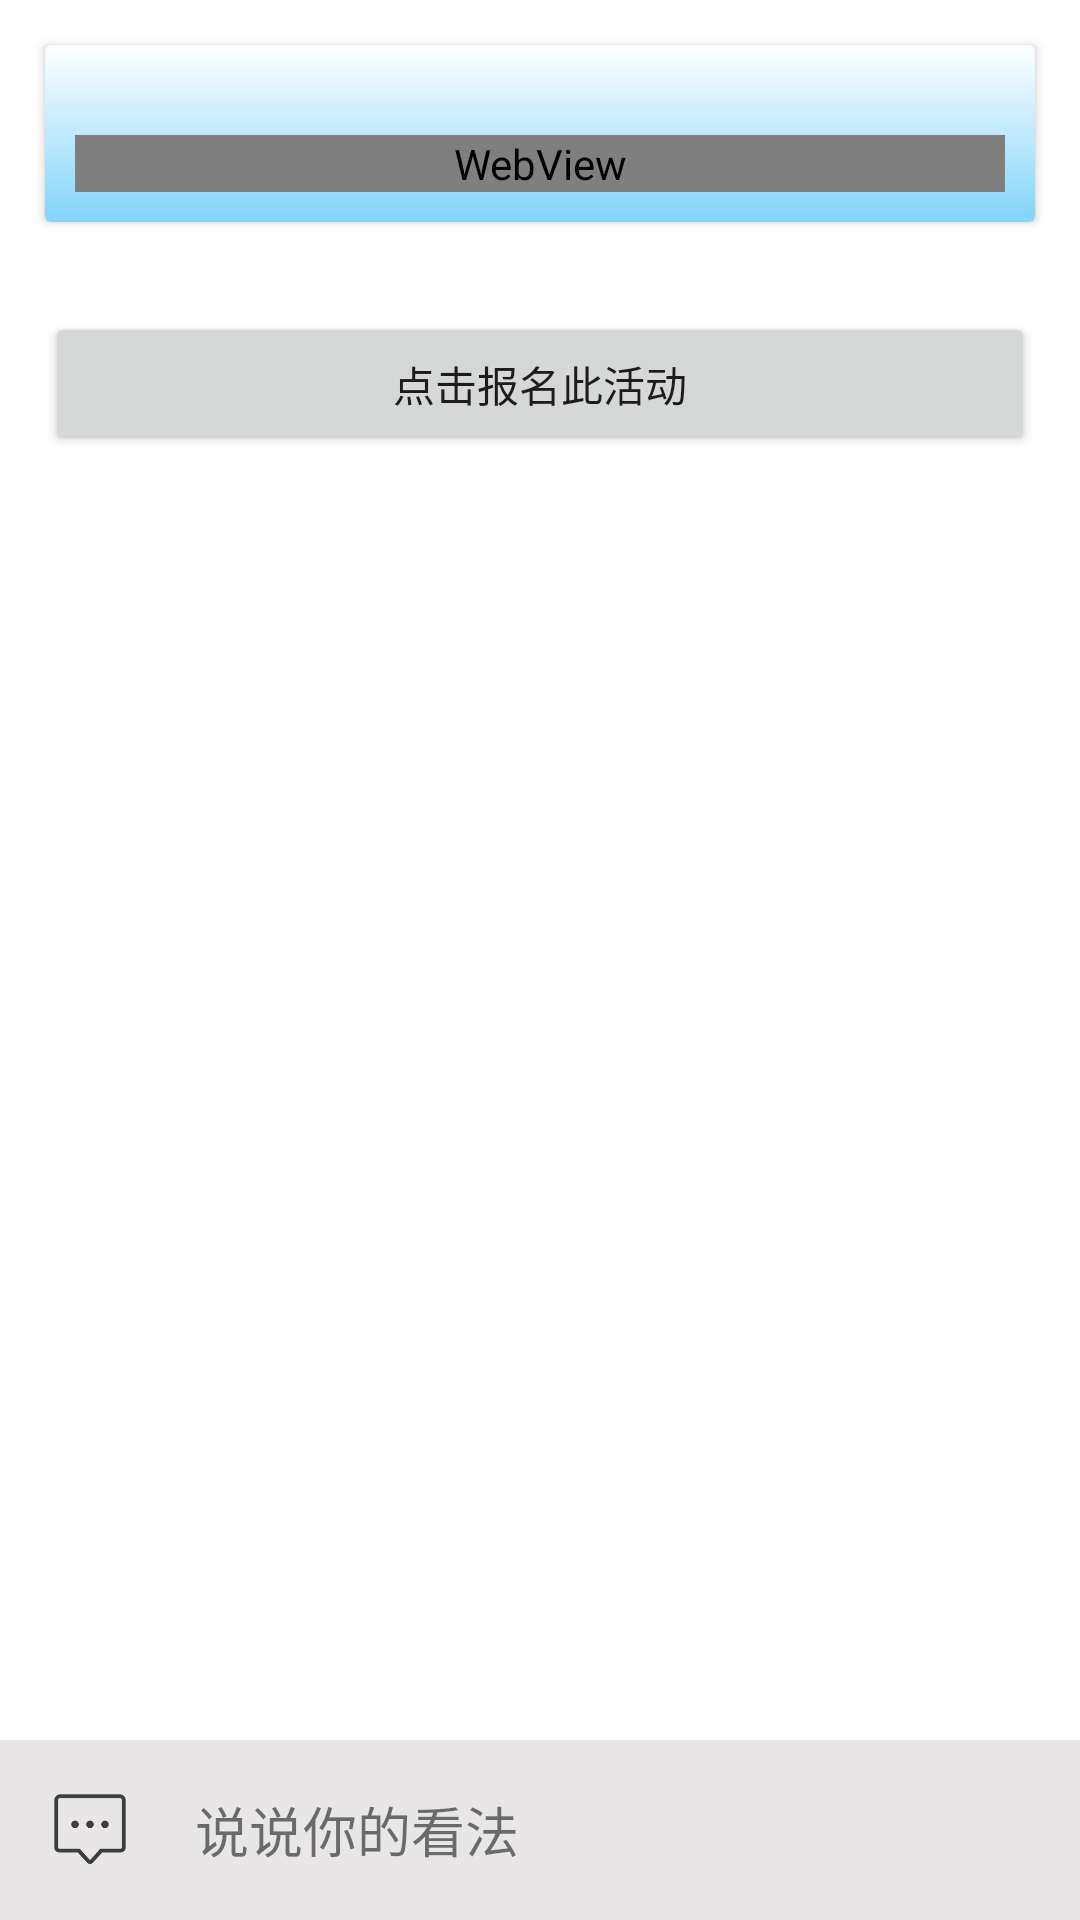

Screen size 1080px×1920px. Icon name, then its box in pixels as region(x1, y1, x2, y2):
pinglun: region(54, 1794, 126, 1864)
